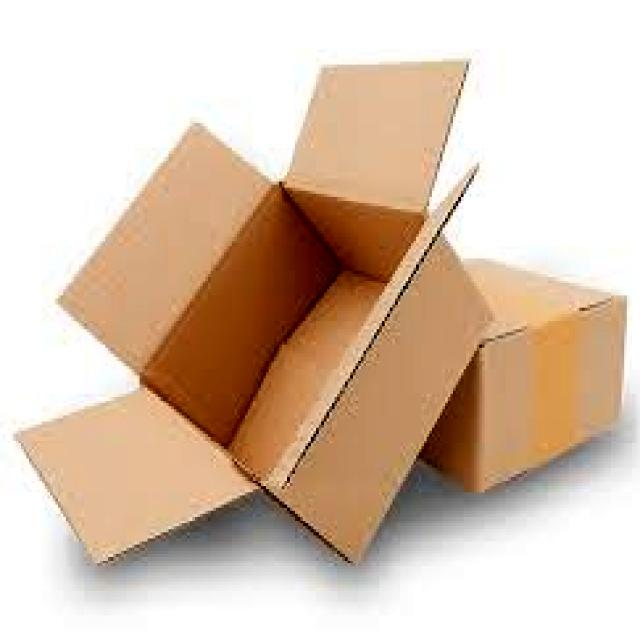Cardboard: (17, 51, 493, 564), (380, 253, 633, 495)
